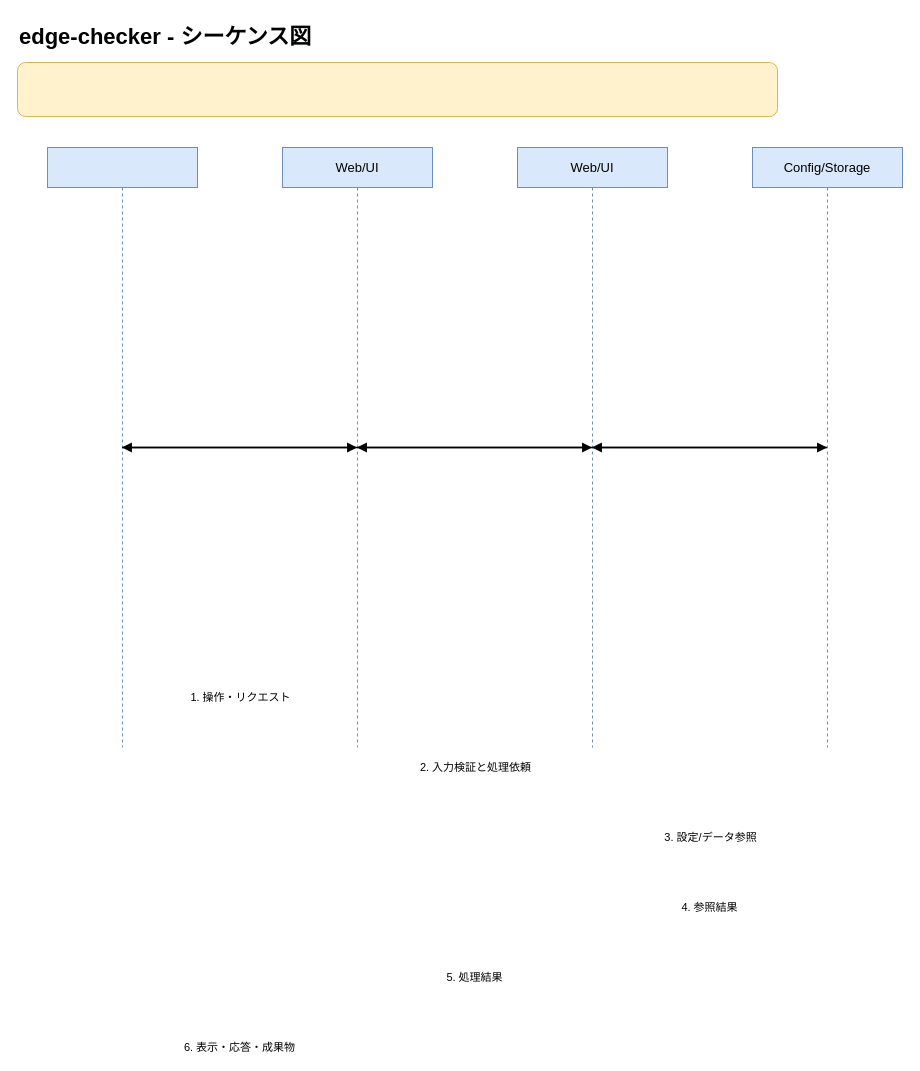
Image size: 920x1071. Some labels were removed from this diagram. The shapes that lost their labels are listed below. From the top down, each one's box as (x1, y1, x2, y2) in pixels, then its label:
(16, 62, 778, 116): [高] README/manifest/主要サブディレクトリから生成。 実行時挙動・外部API契約はコード詳細レビューで補完。
(46, 146, 198, 748): 利用者/運用者
